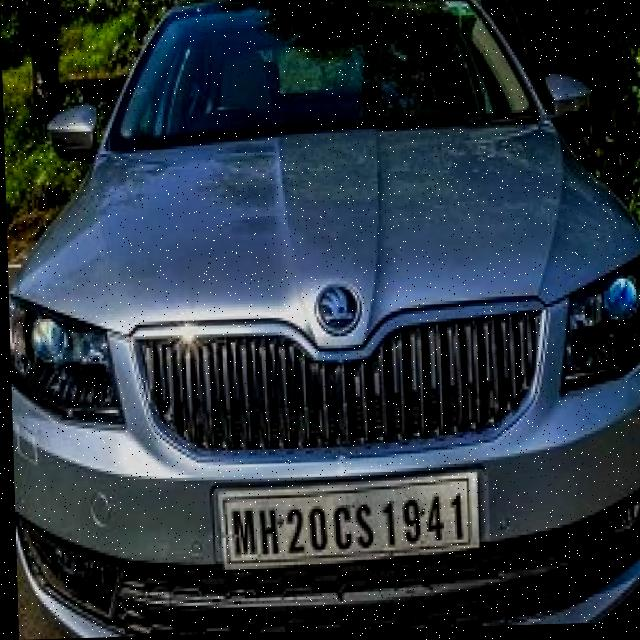plate: (208, 472, 476, 571)
